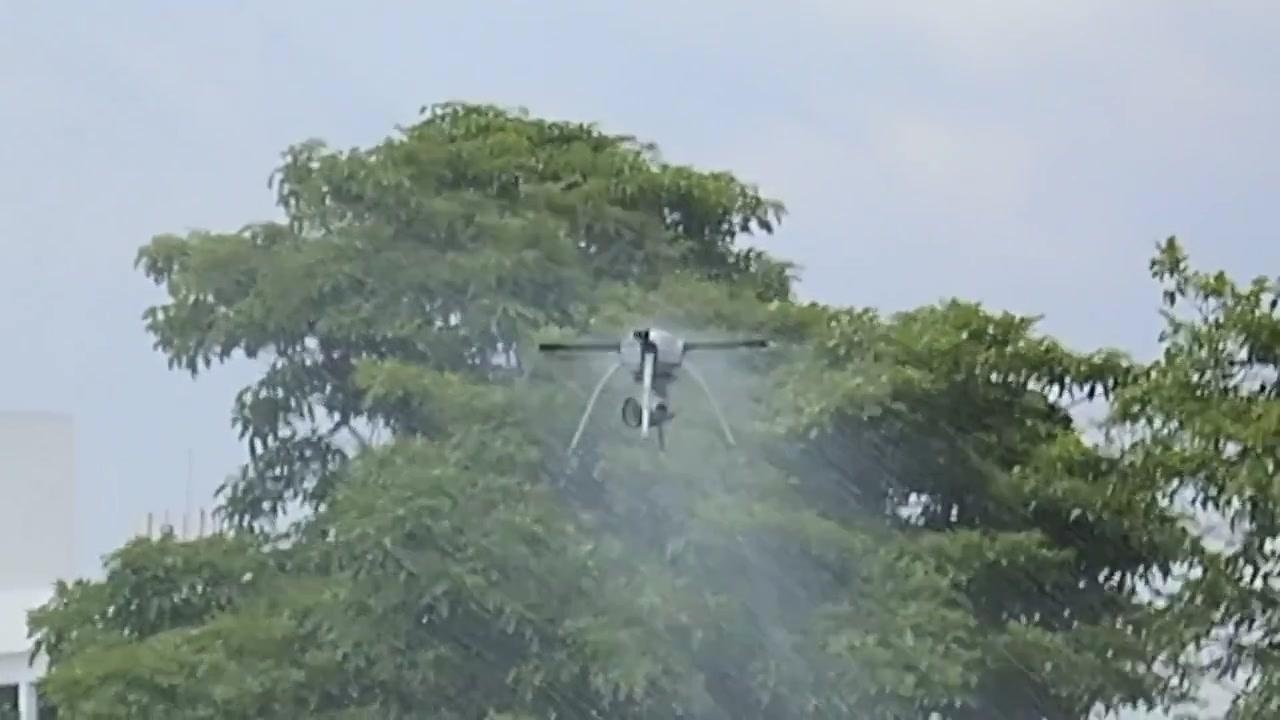UAV: (533, 323, 765, 462)
